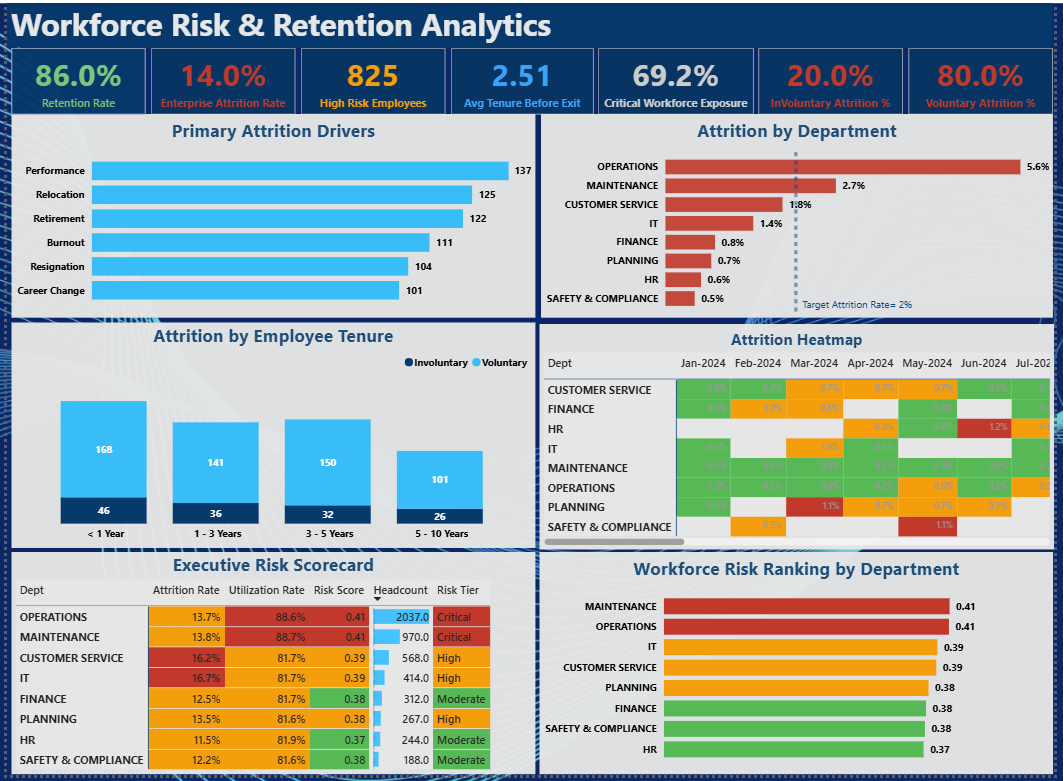

The page's visual inventory and layout, read from the dashboard file:
{"tool":"powerbi","page":{"name":"Page 2","canvas":[1282,945],"ordinal":1},"visuals":[{"type":"textbox","title":"Workforce Risk & Retention Analytics","box":[0,0,1280,54.8],"z":0},{"type":"card","fields":{"Values":["measures_table.Enterprise Attrition Rate"]},"box":[176.8,54.8,176.5,81.1],"z":1000},{"type":"card","fields":{"Values":["measures_table.Current High Risk Employees"]},"box":[359.7,54.8,176.5,81.1],"z":2000},{"type":"card","fields":{"Values":["measures_table.Avg Tenure Before Exit"]},"box":[542.6,54.8,174.4,81.1],"z":3000},{"type":"card","fields":{"Values":["measures_table.Critical Workforce Exposure %"]},"box":[723.5,54.8,190.7,81.1],"z":4000},{"type":"card","fields":{"Values":["measures_table.InVoluntary Attrition %"]},"box":[920.6,54.8,176.5,81.1],"z":5000},{"type":"card","fields":{"Values":["measures_table.Voluntary Attrition %"]},"box":[1103.5,54.8,176.5,81.1],"z":6000},{"type":"clusteredBarChart","title":"Attrition by Department","fields":{"Category":["attrition_history.Department_Clean"],"Y":["measures_table.Attrition Rate"]},"box":[653.2,135.9,626.8,249.5],"z":7000},{"type":"clusteredBarChart","title":"Primary Attrition Drivers","fields":{"Category":["attrition_history.Exit_Reason"],"Y":["measures_table.Total Attrition"]},"box":[6.1,135.9,641,249.5],"z":8000},{"type":"columnChart","title":"Attrition by Employee Tenure","fields":{"Category":["attrition_history.Tenure Bucket"],"Y":["measures_table.Terminated Employees"],"Series":["attrition_history.Attrition_Type"]},"box":[6.1,391.5,641,275.9],"z":9000},{"type":"pivotTable","title":"Attrition Heatmap","fields":{"Rows":["department.Dept"],"Columns":["Date_Table.YearMonth"],"Values":["measures_table.Attrition Rate"]},"box":[652.1,392.3,629.9,276.3],"z":10000},{"type":"pivotTable","title":"Executive Risk Scorecard","fields":{"Values":["measures_table.Attrition Rate","measures_table.Utilization Rate","measures_table.Risk Score","measures_table.Headcount","measures_table.Risk Tier"],"Rows":["department.Dept"]},"box":[6.1,671.4,641,271.8],"z":11000},{"type":"clusteredBarChart","title":"Workforce Risk Ranking by Department","fields":{"Y":["measures_table.Risk Score"],"Category":["department.Dept"]},"box":[651.1,671.4,628.8,271.8],"z":12000},{"type":"card","fields":{"Values":["measures_table.Retention Rate"]},"box":[6.1,54.8,164.3,81.1],"z":13000}]}

Visuals, with their boxes in screenshot pixels (x1, y1, x2, y2), scaled from the page's 1282x945 canvas onto the 1063x781 screenshot:
"Workforce Risk & Retention Analytics" textbox: [0, 0, 1061, 45]
card - measures_table.Enterprise Attrition Rate: [147, 45, 293, 112]
card - measures_table.Current High Risk Employees: [298, 45, 445, 112]
card - measures_table.Avg Tenure Before Exit: [450, 45, 595, 112]
card - measures_table.Critical Workforce Exposure %: [600, 45, 758, 112]
card - measures_table.InVoluntary Attrition %: [763, 45, 910, 112]
card - measures_table.Voluntary Attrition %: [915, 45, 1061, 112]
"Attrition by Department" clusteredBarChart: [542, 112, 1061, 319]
"Primary Attrition Drivers" clusteredBarChart: [5, 112, 537, 319]
"Attrition by Employee Tenure" columnChart: [5, 324, 537, 552]
"Attrition Heatmap" pivotTable: [541, 324, 1062, 553]
"Executive Risk Scorecard" pivotTable: [5, 555, 537, 780]
"Workforce Risk Ranking by Department" clusteredBarChart: [540, 555, 1061, 780]
card - measures_table.Retention Rate: [5, 45, 141, 112]
